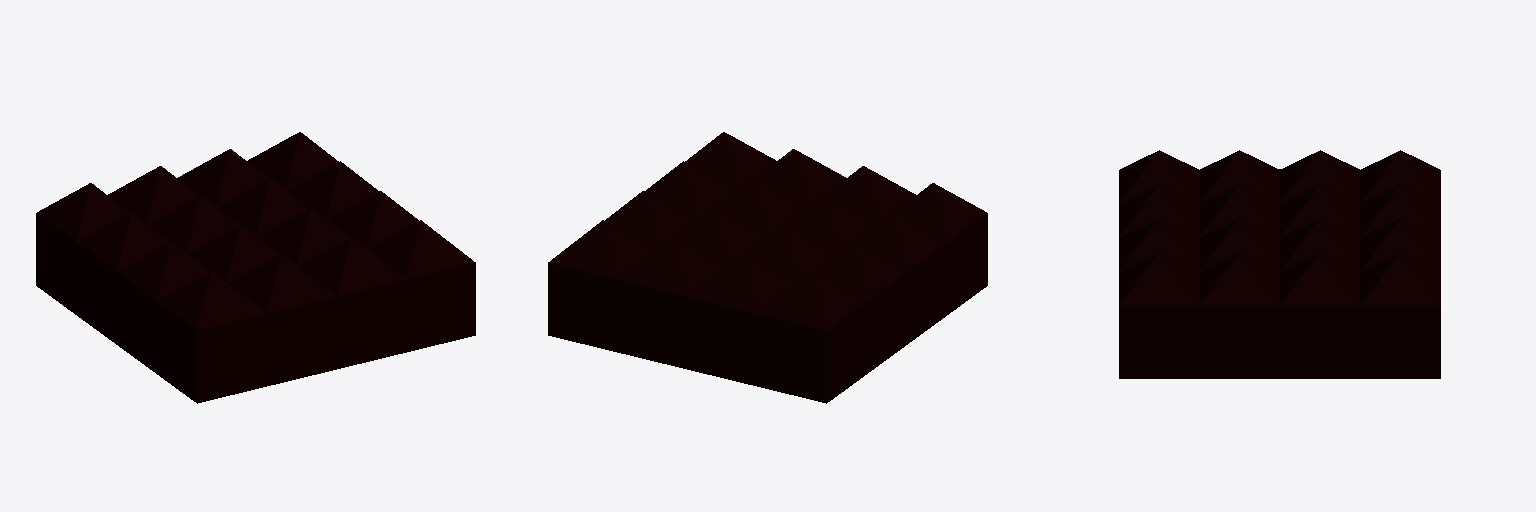
Rendered from RawChocolate.obj.
3 views of the same model, side by side, from view 1: azimuth 30°, elevation 25°; view 2: azimuth 150°, elevation 25°; view 3: azimuth 270°, elevation 25° (orthographic).
Visible parts, largest first — view 1: Union1; view 2: Union1; view 3: Union1.
Boxes of the visible parts, x1,y1,x2,y2 form: Union1: [36, 132, 475, 403]; Union1: [548, 132, 987, 403]; Union1: [1119, 150, 1440, 378].
Bounding box in the file's own units: 4 × 1.5 × 4.